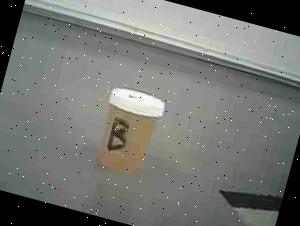Bottle B: (89, 80, 171, 181)
